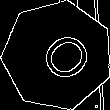O_SW: (24, 23, 91, 89)
